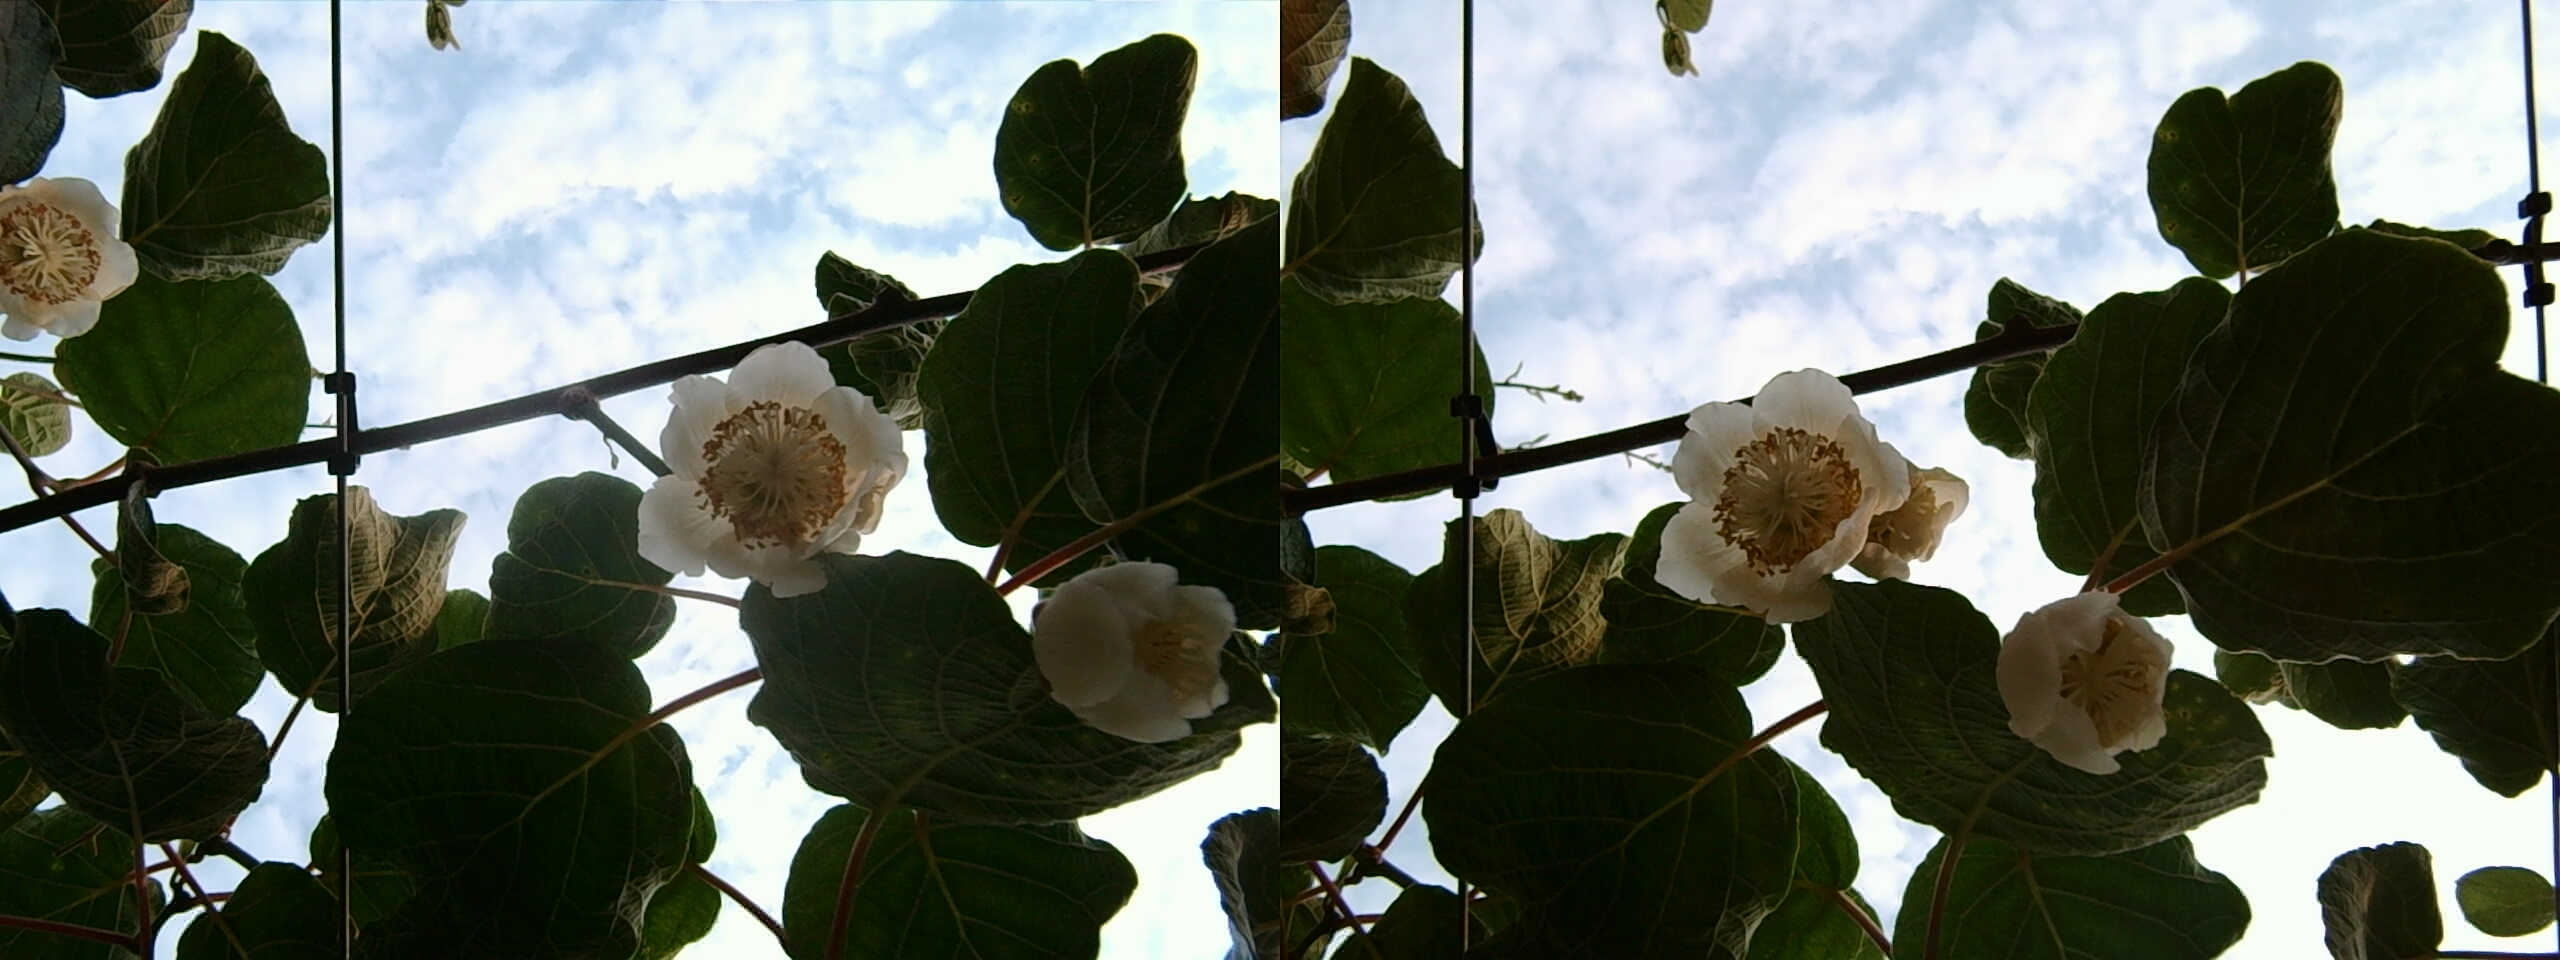flower: (642, 331, 913, 604), (1657, 371, 1896, 630), (2003, 580, 2189, 777), (5, 170, 157, 348)
